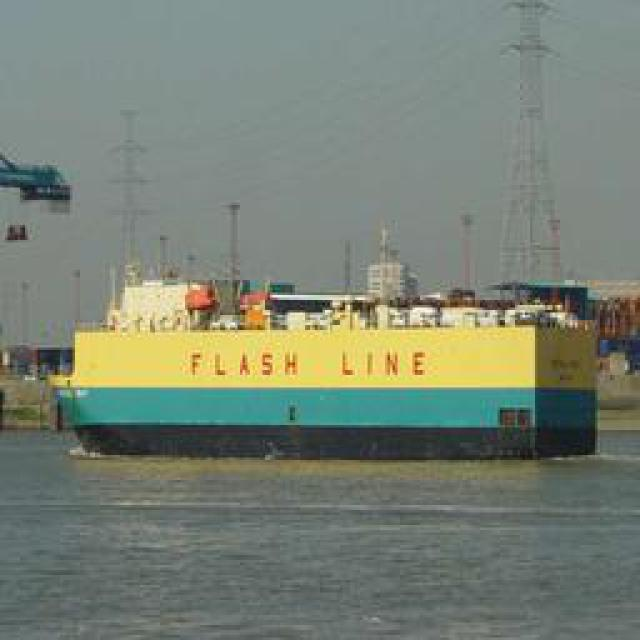Ship: (65, 265, 630, 463)
